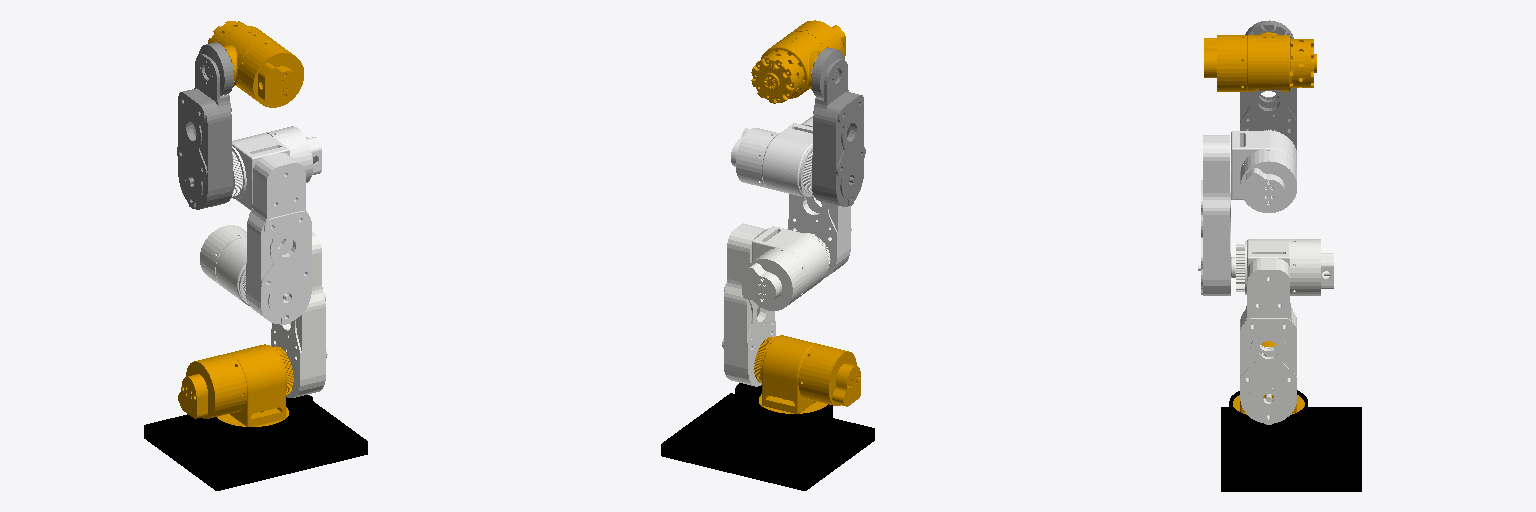
The robot description file, URDF, robot "adele_urdf_2":
<?xml version="1.0" encoding="utf-8" ?>
<!-- This URDF was automatically created by SolidWorks to URDF Exporter! Originally created by [author] ([email redacted]) 
     Commit Version: 1.6.0-1-g15f4949  Build Version: 1.6.7594.29634
     For more information, please see http://wiki.ros.org/sw_urdf_exporter -->
<robot name="adele_urdf_2">
    <link name="base_link">
        
<inertial>
            <origin xyz="0.14711 0.11636 0.020529" rpy="0 0 0" />
            <mass value="2.3915" />
            <inertia ixx="0.010502" ixy="-0.00010468" ixz="-1.3284E-05" iyy="0.014799" iyz="3.6894E-06" izz="0.025048" />
        </inertial>

        <visual>
            <origin xyz="0 0 0" rpy="0 0 0" />
            <geometry>
                <mesh filename="package://adele_urdf_2/meshes/base_link.STL" />
            </geometry>
            <material name="">
                <color rgba="0 0 0 1" />
            </material>
        </visual>
        <collision>
            <origin xyz="0 0 0" rpy="0 0 0" />
            <geometry>
                <mesh filename="package://adele_urdf_2/meshes/base_link.STL" />
            </geometry>
        </collision>
    </link>
    <link name="Link_1">
        
<inertial>
            <origin xyz="-0.0087894 -1.2827E-05 0.079289" rpy="0 0 0" />
            <mass value="1" />
            <inertia ixx="0.0019625" ixy="-1.6424E-07" ixz="-3.6449E-06" iyy="0.0018442" iyz="-6.9866E-07" izz="0.0019176" />
        </inertial>

        <visual>
            <origin xyz="0 0 0" rpy="0 0 0" />
            <geometry>
                <mesh filename="package://adele_urdf_2/meshes/Link_1.STL" />
            </geometry>
            <material name="">
                <color rgba="0.90588 0.63529 0 1" />
            </material>
        </visual>
        <collision>
            <origin xyz="0 0 0" rpy="0 0 0" />
            <geometry>
                <mesh filename="package://adele_urdf_2/meshes/Link_1.STL" />
            </geometry>
        </collision>
    </link>
    <joint name="Joint_1" type="revolute">
        <origin xyz="0.11903 0.085 0.052" rpy="0 0 0" />
        <parent link="base_link" />
        <child link="Link_1" />
        <axis xyz="0 0 1" />
        <limit lower="-2" upper="2" effort="0" velocity="125.7" />
        <safety_controller soft_upper="1.75" soft_lower="-1.75" k_velocity="0" />
    </joint>
    <link name="Link_2">
        
<inertial>
            <origin xyz="0.080396 0.0026836 0.14954" rpy="0 0 0" />
            <mass value="2" />
            <inertia ixx="0.0066083" ixy="-3.7186E-06" ixz="-1.4851E-05" iyy="0.0064738" iyz="-3.2275E-07" izz="0.0023282" />
        </inertial>

        <visual>
            <origin xyz="0 0 0" rpy="0 0 0" />
            <geometry>
                <mesh filename="package://adele_urdf_2/meshes/Link_2.STL" />
            </geometry>
            <material name="">
                <color rgba="0.96471 0.96471 0.95294 1" />
            </material>
        </visual>
        <collision>
            <origin xyz="0 0 0" rpy="0 0 0" />
            <geometry>
                <mesh filename="package://adele_urdf_2/meshes/Link_2.STL" />
            </geometry>
        </collision>
    </link>
    <joint name="Joint_2" type="revolute">
        <origin xyz="-0.037604 0.0012779 0.10236" rpy="0 0 0" />
        <parent link="Link_1" />
        <child link="Link_2" />
        <axis xyz="-1 0 0" />
        <limit lower="-1.57" upper="1.57" effort="0" velocity="125.7" />
    </joint>
    <link name="Link_3">
        
<inertial>
            <origin xyz="0.091739 -0.0051381 -0.14985" rpy="0 0 0" />
            <mass value="2" />
            <inertia ixx="0.0066027" ixy="3.7186E-06" ixz="1.4851E-05" iyy="0.0064636" iyz="-3.2275E-07" izz="0.0023227" />
        </inertial>

        <visual>
            <origin xyz="0 0 0" rpy="0 0 0" />
            <geometry>
                <mesh filename="package://adele_urdf_2/meshes/Link_3.STL" />
            </geometry>
            <material name="">
                <color rgba="0.96078 0.96078 0.96471 1" />
            </material>
        </visual>
        <collision>
            <origin xyz="0 0 0" rpy="0 0 0" />
            <geometry>
                <mesh filename="package://adele_urdf_2/meshes/Link_3.STL" />
            </geometry>
        </collision>
    </link>
    <joint name="Joint_3" type="revolute">
        <origin xyz="0.037604 0.047022 0.19894" rpy="-3.1416 0 -1.5708" />
        <parent link="Link_2" />
        <child link="Link_3" />
        <axis xyz="-1 0 0" />
        <limit lower="-1.57" upper="1.57" effort="0" velocity="125.7" />
    </joint>
    <link name="Link_4">
        
<inertial>
            <origin xyz="0.12304 -1.846E-06 0.078976" rpy="0 0 0" />
            <mass value="1.2" />
            <inertia ixx="0.0029198" ixy="2.5183E-08" ixz="3.294E-06" iyy="0.0024605" iyz="-2.1396E-07" izz="0.0007381" />
        </inertial>

        <visual>
            <origin xyz="0 0 0" rpy="0 0 0" />
            <geometry>
                <mesh filename="package://adele_urdf_2/meshes/Link_4.STL" />
            </geometry>
            <material name="">
                <color rgba="0.62745 0.62745 0.62745 1" />
            </material>
        </visual>
        <collision>
            <origin xyz="0 0 0" rpy="0 0 0" />
            <geometry>
                <mesh filename="package://adele_urdf_2/meshes/Link_4.STL" />
            </geometry>
        </collision>
    </link>
    <joint name="Joint_4" type="revolute">
        <origin xyz="0.0483 -0.0403 -0.2" rpy="3.1416 0 1.5708" />
        <parent link="Link_3" />
        <child link="Link_4" />
        <axis xyz="-1 0 0" />
        <limit lower="-1.57" upper="1.57" effort="0" velocity="125.7" />
    </joint>
    <link name="Link_5">
        
<inertial>
            <origin xyz="0.081501 -0.0075543 0.0028358" rpy="0 0 0" />
            <mass value="1" />
            <inertia ixx="0.0010332" ixy="9.7176E-07" ixz="-2.4621E-05" iyy="0.0011642" iyz="2.5598E-06" izz="0.0011663" />
        </inertial>

        <visual>
            <origin xyz="0 0 0" rpy="0 0 0" />
            <geometry>
                <mesh filename="package://adele_urdf_2/meshes/Link_5.STL" />
            </geometry>
            <material name="">
                <color rgba="0.90588 0.63529 0 1" />
            </material>
        </visual>
        <collision>
            <origin xyz="0 0 0" rpy="0 0 0" />
            <geometry>
                <mesh filename="package://adele_urdf_2/meshes/Link_5.STL" />
            </geometry>
        </collision>
    </link>
    <joint name="Joint_5" type="revolute">
        <origin xyz="0.1251 0 0.2" rpy="0 0 3.1416" />
        <parent link="Link_4" />
        <child link="Link_5" />
        <axis xyz="-1 0 0" />
        <limit lower="-1.57" upper="1.57" effort="0" velocity="125.7" />
    </joint>
    <link name="Link_6">
        
<inertial>
            <origin xyz="-0.0026064 2.0817E-17 -1.1102E-16" rpy="0 0 0" />
            <mass value="0.0036914" />
            <inertia ixx="5.7576E-07" ixy="-1.3579E-21" ixz="-6.4364E-21" iyy="2.9553E-07" iyz="2.5681E-23" izz="2.9553E-07" />
        </inertial>

        <visual>
            <origin xyz="0 0 0" rpy="0 0 0" />
            <geometry>
                <mesh filename="package://adele_urdf_2/meshes/Link_6.STL" />
            </geometry>
            <material name="">
                <color rgba="0.90588 0.63529 0 1" />
            </material>
        </visual>
        <collision>
            <origin xyz="0 0 0" rpy="0 0 0" />
            <geometry>
                <mesh filename="package://adele_urdf_2/meshes/Link_6.STL" />
            </geometry>
        </collision>
    </link>
    <joint name="Joint_6" type="revolute">
        <origin xyz="0.0848 0.0857 0" rpy="-3.1416 0 1.5708" />
        <parent link="Link_5" />
        <child link="Link_6" />
        <axis xyz="-1 0 0" />
        <limit lower="-0.785398" upper="0.785398" effort="0" velocity="125.7" />
    </joint>
    
<transmission name="trans_Joint_1">
        <type>transmission_interface/SimpleTransmission</type>
        <joint name="Joint_1">
            <hardwareInterface>hardware_interface/PositionJointInterface</hardwareInterface>
        </joint>
        <actuator name="Joint_1_motor">
            <hardwareInterface>hardware_interface/PositionActuatorInterface</hardwareInterface>
            <mechanicalReduction>6.5</mechanicalReduction>
        </actuator>
    </transmission>
    <transmission name="trans_Joint_2">
        <type>transmission_interface/SimpleTransmission</type>
        <joint name="Joint_2">
            <hardwareInterface>hardware_interface/PositionJointInterface</hardwareInterface>
        </joint>
        <actuator name="Joint_2_motor">
            <hardwareInterface>hardware_interface/PositionActuatorInterface</hardwareInterface>
            <mechanicalReduction>-20</mechanicalReduction>
        </actuator>
    </transmission>
    <transmission name="trans_Joint_3">
        <type>transmission_interface/SimpleTransmission</type>
        <joint name="Joint_3">
            <hardwareInterface>hardware_interface/PositionJointInterface</hardwareInterface>
        </joint>
        <actuator name="Joint_3_motor">
            <hardwareInterface>hardware_interface/PositionActuatorInterface</hardwareInterface>
            <mechanicalReduction>-20</mechanicalReduction>
        </actuator>
    </transmission>
    <transmission name="trans_Joint_4">
        <type>transmission_interface/SimpleTransmission</type>
        <joint name="Joint_4">
            <hardwareInterface>hardware_interface/PositionJointInterface</hardwareInterface>
        </joint>
        <actuator name="Joint_4_motor">
            <hardwareInterface>hardware_interface/PositionActuatorInterface</hardwareInterface>
            <mechanicalReduction>-20</mechanicalReduction>
        </actuator>
    </transmission>
    <transmission name="trans_Joint_5">
        <type>transmission_interface/SimpleTransmission</type>
        <joint name="Joint_5">
            <hardwareInterface>hardware_interface/PositionJointInterface</hardwareInterface>
        </joint>
        <actuator name="Joint_5_motor">
            <hardwareInterface>hardware_interface/PositionActuatorInterface</hardwareInterface>
            <mechanicalReduction>1</mechanicalReduction>
        </actuator>
    </transmission>
    <transmission name="trans_Joint_6">
        <type>transmission_interface/SimpleTransmission</type>
        <joint name="Joint_6">
            <hardwareInterface>hardware_interface/PositionActuatorInterface</hardwareInterface>
        </joint>
        <actuator name="Joint_6_motor">
            <hardwareInterface>hardware_interface/EffortJointInterface</hardwareInterface>
            <mechanicalReduction>1</mechanicalReduction>
        </actuator>
    </transmission>
    <gazebo>
        <plugin name="gazebo_ros_control" filename="libgazebo_ros_control.so">
            <robotNamespace>/AdeleHW</robotNamespace>
        </plugin>
    </gazebo>
</robot>

--- Facts derived from the render (not from the file) ---
The picture shows the robot from 3 angles, left to right: view 1: azimuth 30°, elevation 25°; view 2: azimuth 150°, elevation 25°; view 3: azimuth 270°, elevation 25°; orthographic projection.
Model adele_urdf_2 with 7 links and 6 joints (6 revolute), rooted at base_link, posed every joint at zero.
Visible links, largest first — view 1: Link_3, base_link, Link_4, Link_1, Link_2, Link_5; view 2: base_link, Link_2, Link_3, Link_4, Link_1, Link_5; view 3: Link_2, base_link, Link_3, Link_5, Link_4.
Link boxes in pixels (x1,y1,x2,y2): Link_3: [231, 126, 321, 324]; base_link: [144, 395, 367, 490]; Link_4: [177, 42, 234, 209]; Link_1: [178, 344, 293, 426]; Link_2: [200, 225, 327, 397]; Link_5: [208, 21, 303, 107]; base_link: [661, 383, 874, 490]; Link_2: [722, 223, 830, 386]; Link_3: [731, 115, 851, 277]; Link_4: [811, 48, 865, 206]; Link_1: [754, 335, 860, 413]; Link_5: [751, 20, 845, 103]; Link_2: [1231, 239, 1333, 424]; base_link: [1221, 390, 1361, 491]; Link_3: [1198, 130, 1296, 295]; Link_5: [1204, 32, 1313, 91]; Link_4: [1240, 20, 1296, 149].
Bounding box of the posed robot: 0.3063 × 0.2903 × 0.8041 m (x, y, z).
7 mesh visuals loaded from 7 distinct referenced files (7 binary STL).
